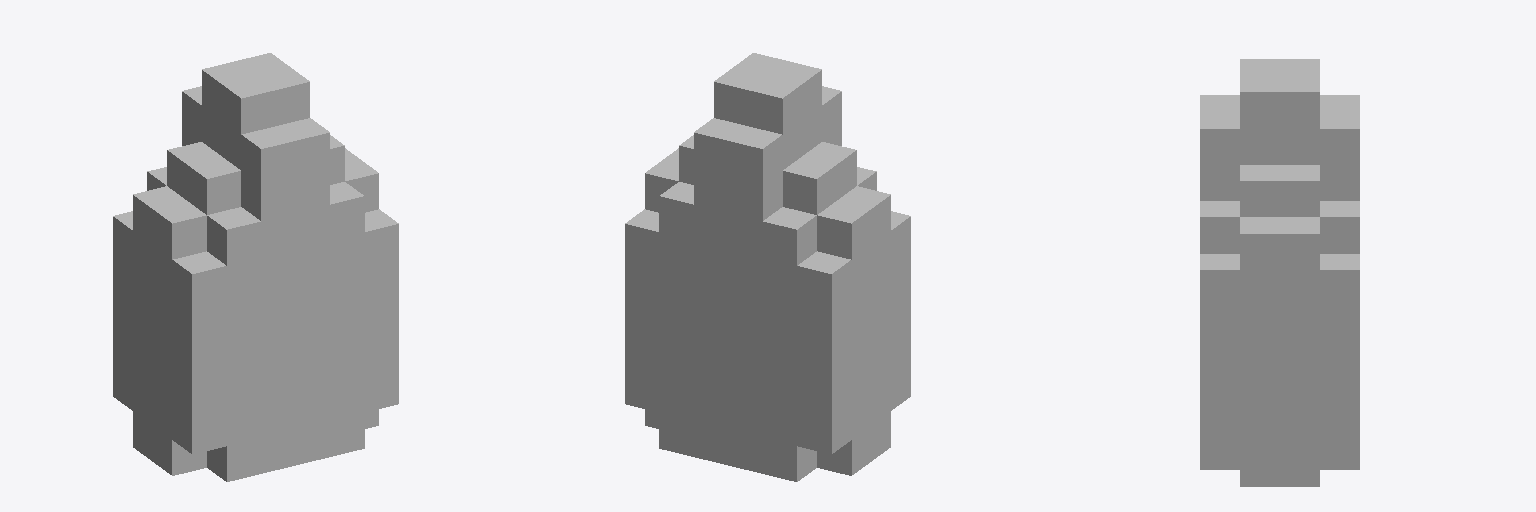
Rendered from Boost 3.obj.
3 views of the same model, side by side, from view 1: azimuth 30°, elevation 25°; view 2: azimuth 150°, elevation 25°; view 3: azimuth 270°, elevation 25° (orthographic).
Parts seen in each view (by area): view 1: object 1; view 2: object 1; view 3: object 1.
Boxes of the visible parts, <box> form: object 1: <box>113,53,398,481</box>; object 1: <box>625,53,910,481</box>; object 1: <box>1200,59,1359,486</box>.
Bounding box in the file's own units: 0.6 × 1 × 0.4.